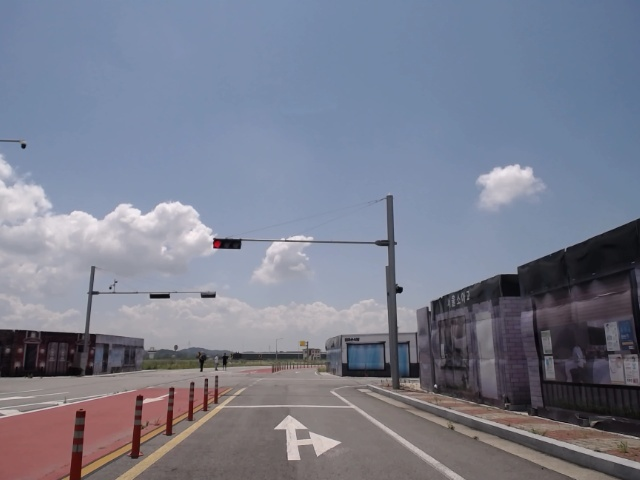red_3: (212, 238, 242, 249)
